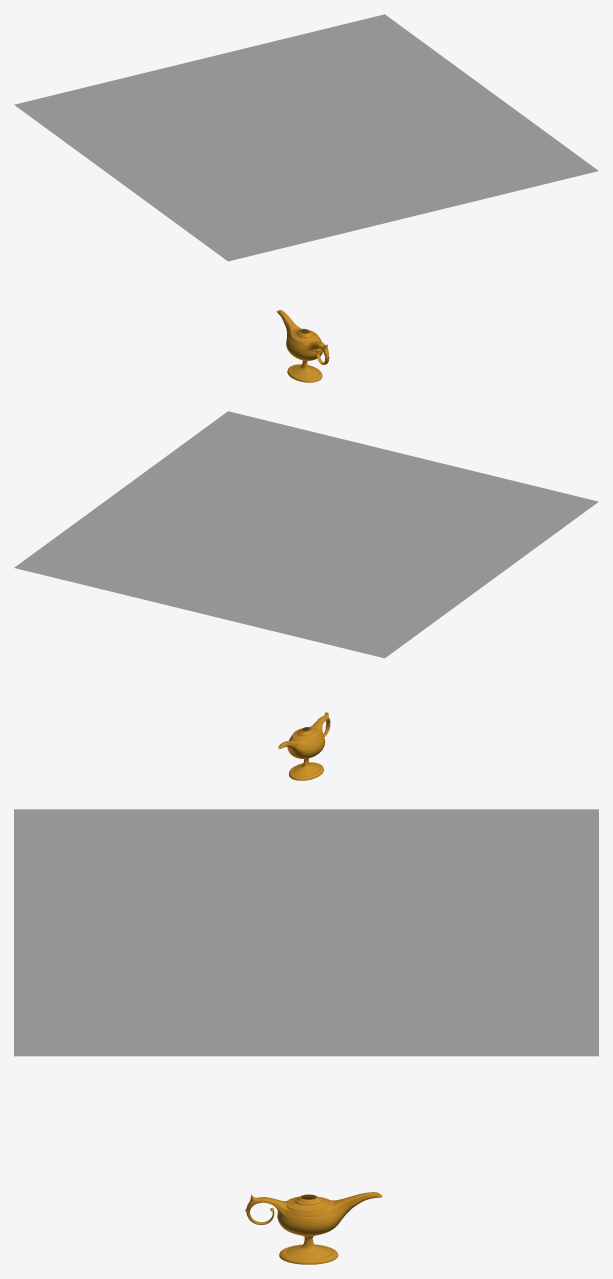
Rendered from genie_lamp_05.obj.
3 views of the same model, one above another, from view 1: azimuth 30°, elevation 25°; view 2: azimuth 150°, elevation 25°; view 3: azimuth 270°, elevation 25° (orthographic). The views are drawn at different scales.
Parts seen in each view (by area): view 1: Plane, Aladdin's_Lamp; view 2: Plane, Aladdin's_Lamp; view 3: Plane, Aladdin's_Lamp.
Part boxes in pixels (bbox=[...]): Plane: bbox=[14, 14, 598, 261]; Aladdin's_Lamp: bbox=[276, 310, 329, 382]; Plane: bbox=[14, 411, 598, 658]; Aladdin's_Lamp: bbox=[278, 712, 330, 780]; Plane: bbox=[14, 809, 598, 1056]; Aladdin's_Lamp: bbox=[245, 1192, 382, 1264].
Bounding box in the file's own units: 37.54 × 22.89 × 37.54.
